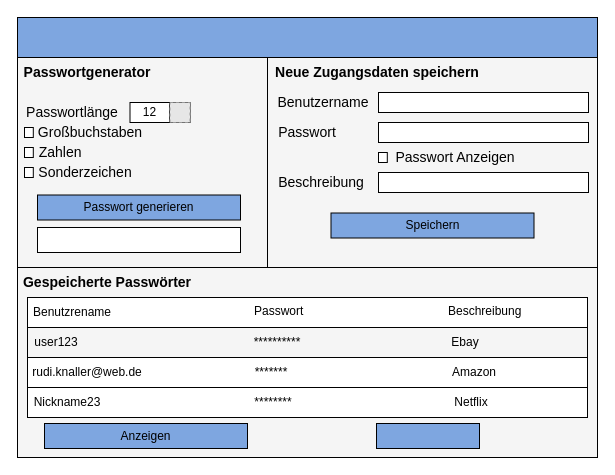
The diagram is 615 pixels wide and 475 high, and some of its shapes have lost their labels. Grey dashed boxes stand in for pictures. The shapes that lost their labels are listed below. From the top down, each one's centre as x and y in pixels, then its label:
At point (307, 37): "Passwortmanager".
At point (428, 435): "Löschen!".
